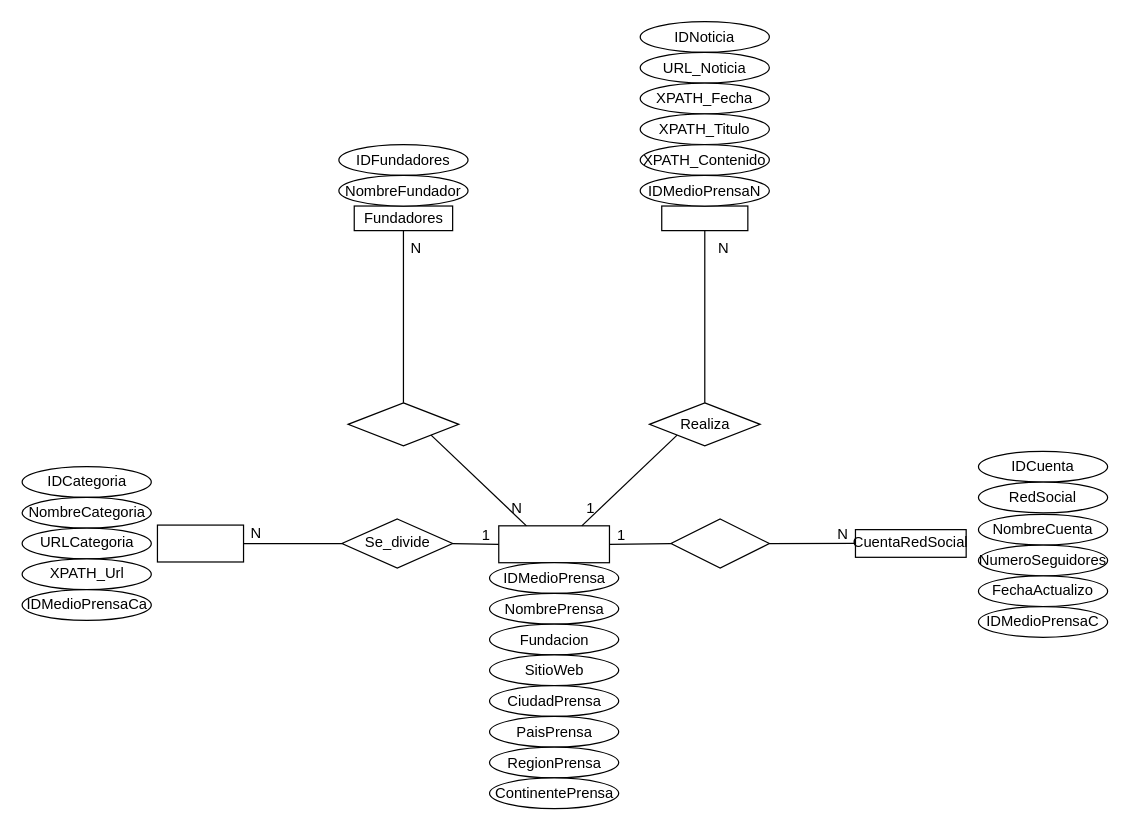
Some shapes in this 1129 by 830 pixel diagram are drawn without their labels. Each missing label, with the centre of its shape:
"Categorias" goes at [200,543].
"LoRealiza" goes at [403,424].
"Medios_Prensa" goes at [553,544].
"Noticias" goes at [704,218].
"Tiene" goes at [719,543].
